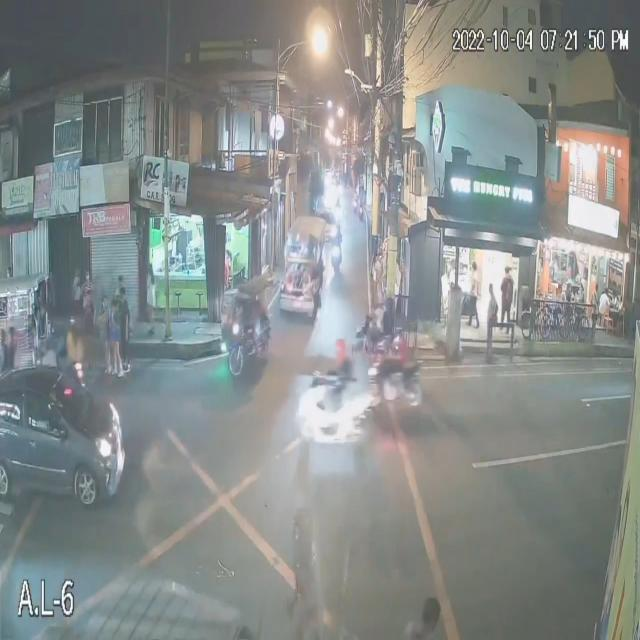Full-Faced: (331, 338, 349, 366)
